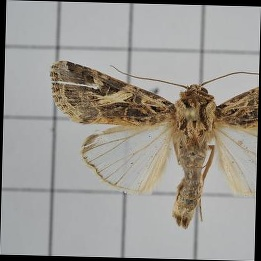Spodoptera litura: (47, 61, 257, 230)
